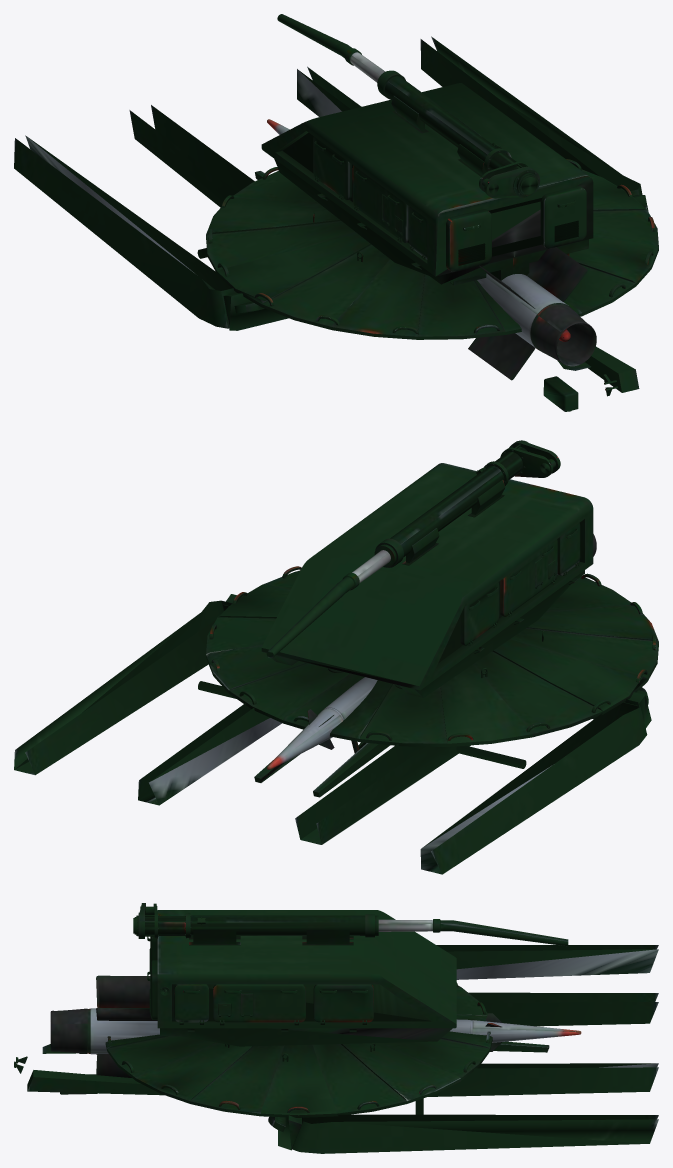
3 views of the same model, one above another, from view 1: azimuth 30°, elevation 25°; view 2: azimuth 150°, elevation 25°; view 3: azimuth 270°, elevation 25° (orthographic). The views are drawn at different scales.
Visible parts, largest first — view 1: turret|Material, body|Material, cradle|Material, booster|Material (×2); view 2: turret|Material, body|Material, cradle|Material, missile|Material; view 3: turret|Material, cradle|Material, body|Material, booster|Material (×2), missile|Material.
Boxes of the visible parts, x1,y1,x2,y2 form: turret|Material: (261, 14, 593, 285); body|Material: (206, 159, 658, 339); cradle|Material: (14, 36, 648, 330); booster|Material (×2): (468, 247, 639, 411); turret|Material: (261, 440, 593, 697); body|Material: (206, 566, 658, 746); cradle|Material: (14, 594, 651, 874); missile|Material: (267, 677, 377, 769); turret|Material: (133, 903, 568, 1046); cradle|Material: (268, 945, 658, 1153); body|Material: (105, 982, 492, 1117); booster|Material (×2): (14, 975, 164, 1095); missile|Material: (450, 1013, 581, 1051).
Size of the model in its own units: 4.95 by 2.25 by 7.3.
Materials: 7 (7 with a texture image).
